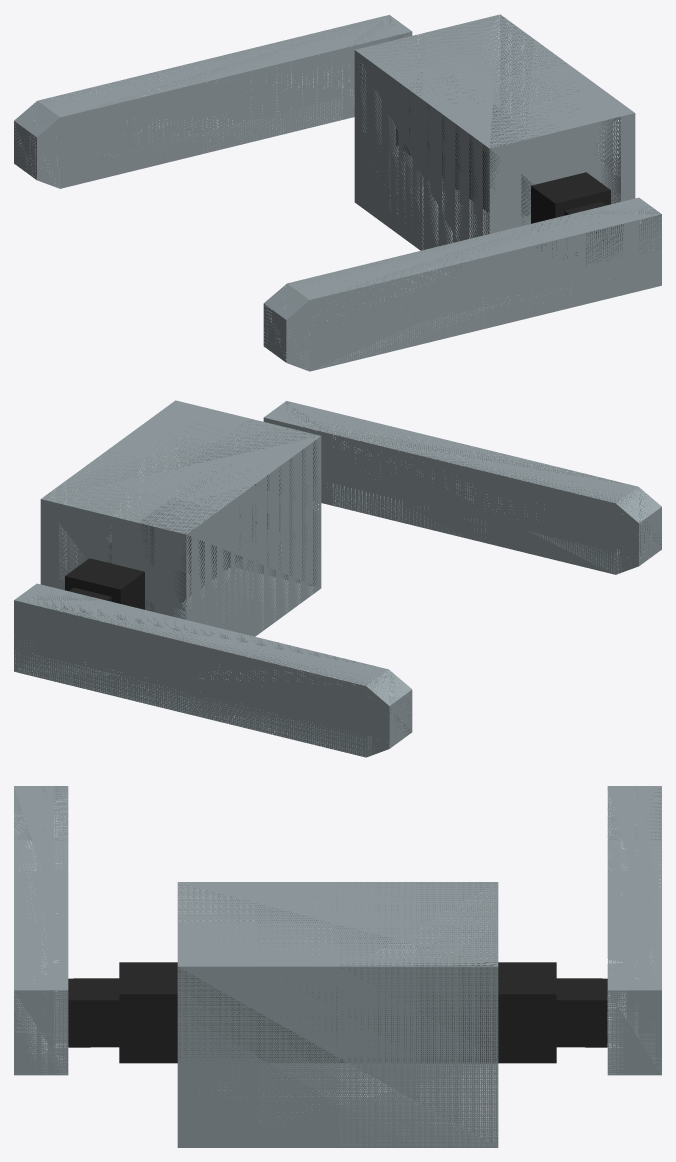
The model's file is DoorHandle04.fbx.
3 renders of one model, top to bottom at view 1: azimuth 30°, elevation 25°; view 2: azimuth 150°, elevation 25°; view 3: azimuth 270°, elevation 25°, orthographic. The views are drawn at different scales.
Parts seen in each view (by area): view 1: DoorHandle04; view 2: DoorHandle04; view 3: DoorHandle04.
Boxes of the visible parts, bbox=[...] form: DoorHandle04: bbox=[14, 14, 661, 371]; DoorHandle04: bbox=[14, 400, 661, 757]; DoorHandle04: bbox=[14, 786, 661, 1147].
Bounding box in the file's own units: 10.97 × 3.83 × 12.39.
